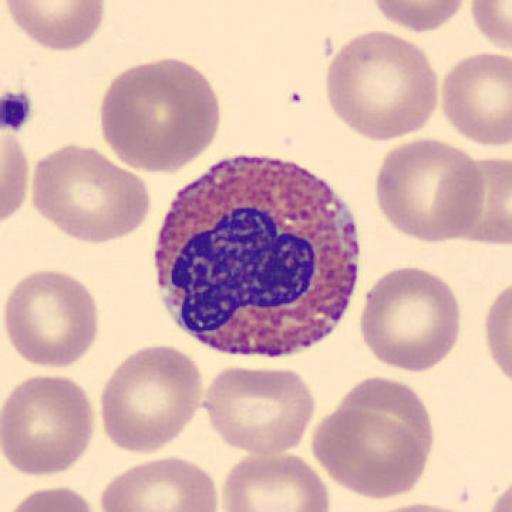RBC: (98, 56, 222, 177), (324, 28, 440, 142), (30, 143, 152, 245), (373, 136, 485, 245), (100, 343, 204, 455), (311, 405, 430, 501), (357, 265, 462, 373), (202, 364, 317, 458), (2, 269, 99, 370), (2, 374, 95, 478), (335, 374, 434, 460), (98, 455, 219, 512), (220, 451, 332, 512), (441, 50, 512, 146), (453, 155, 512, 246), (5, 0, 107, 52), (371, 0, 468, 34), (483, 281, 512, 387), (4, 484, 98, 512), (1, 130, 29, 224), (471, 0, 512, 51), (364, 502, 482, 512), (490, 477, 512, 511)
WBC: (152, 155, 364, 358)
